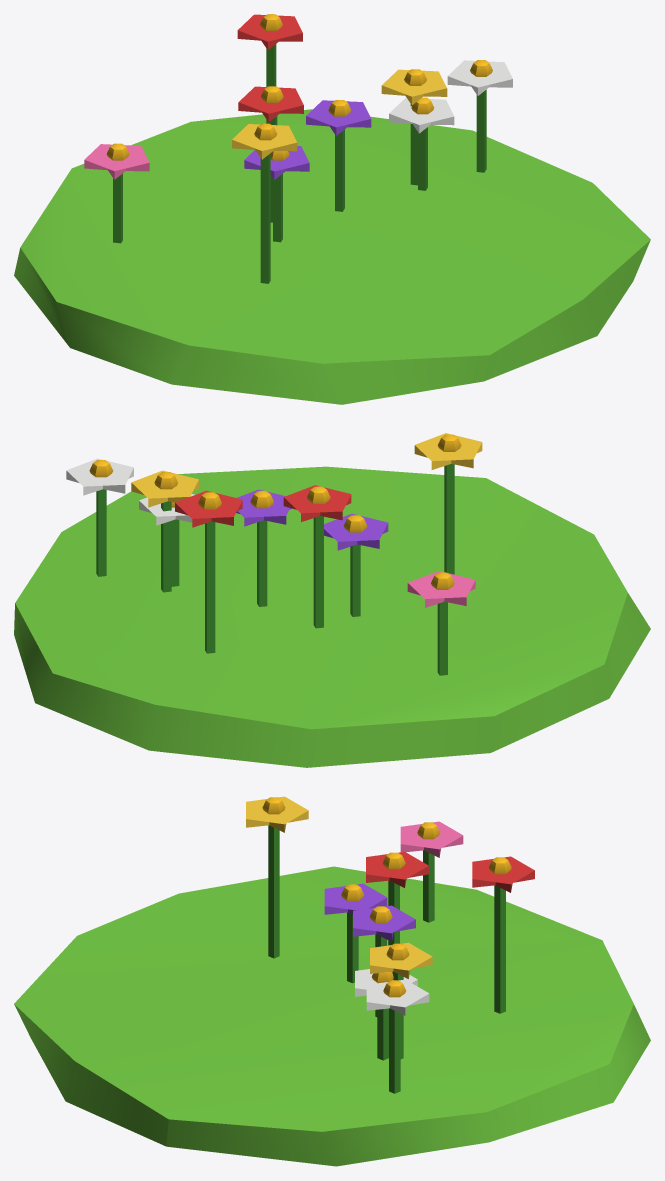
File: FlowerPatch.fbx
The picture shows the model from 3 angles, top to bottom: view 1: azimuth 30°, elevation 25°; view 2: azimuth 150°, elevation 25°; view 3: azimuth 270°, elevation 25°; orthographic projection. The views are drawn at different scales.
Visible parts, largest first — view 1: FlowerPatch; view 2: FlowerPatch; view 3: FlowerPatch.
Boxes of the visible parts, x1=… form: FlowerPatch: x1=14, y1=14, x2=650, y2=404; FlowerPatch: x1=14, y1=433, x2=650, y2=767; FlowerPatch: x1=14, y1=796, x2=650, y2=1166.
Size of the model in its own units: 3.2 by 1.13 by 3.31.
1 material, 1 textured.
